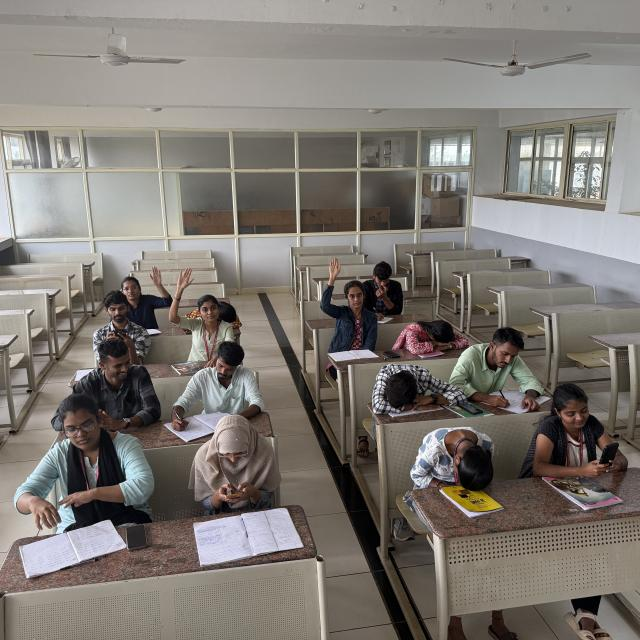Hand Rising: (166, 265, 225, 356), (318, 258, 375, 348), (121, 263, 173, 323)
Sleeping: (407, 425, 499, 492), (371, 361, 464, 412), (395, 316, 470, 350)
Using Phone: (524, 384, 626, 479), (66, 338, 162, 430), (189, 414, 279, 512), (89, 289, 147, 350)
Writing: (170, 337, 266, 434), (455, 327, 547, 412), (361, 260, 406, 320)
